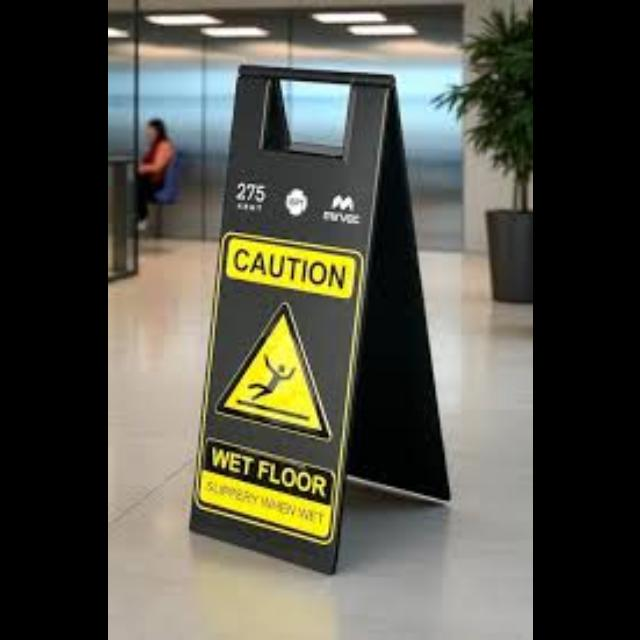tron truot: (191, 70, 447, 570)
